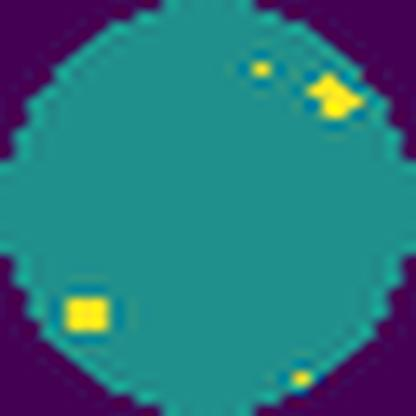Loc: (308, 72, 362, 122), (66, 290, 117, 332)
